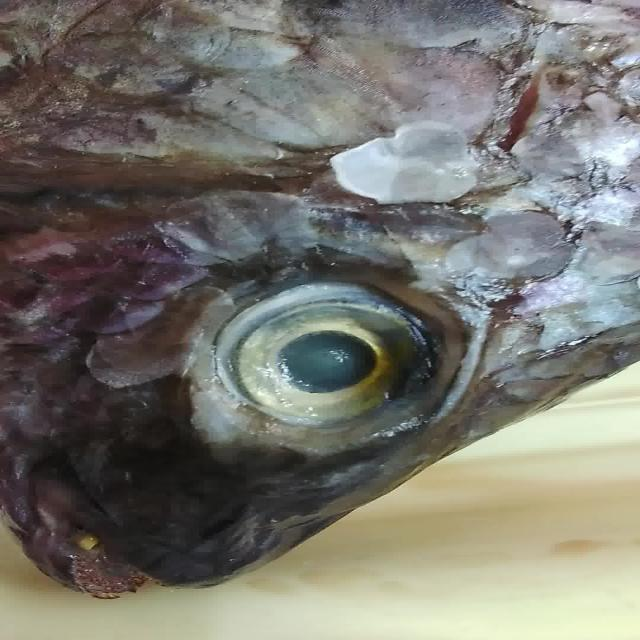Non-Fresh: (39, 13, 596, 208), (162, 236, 490, 464)
